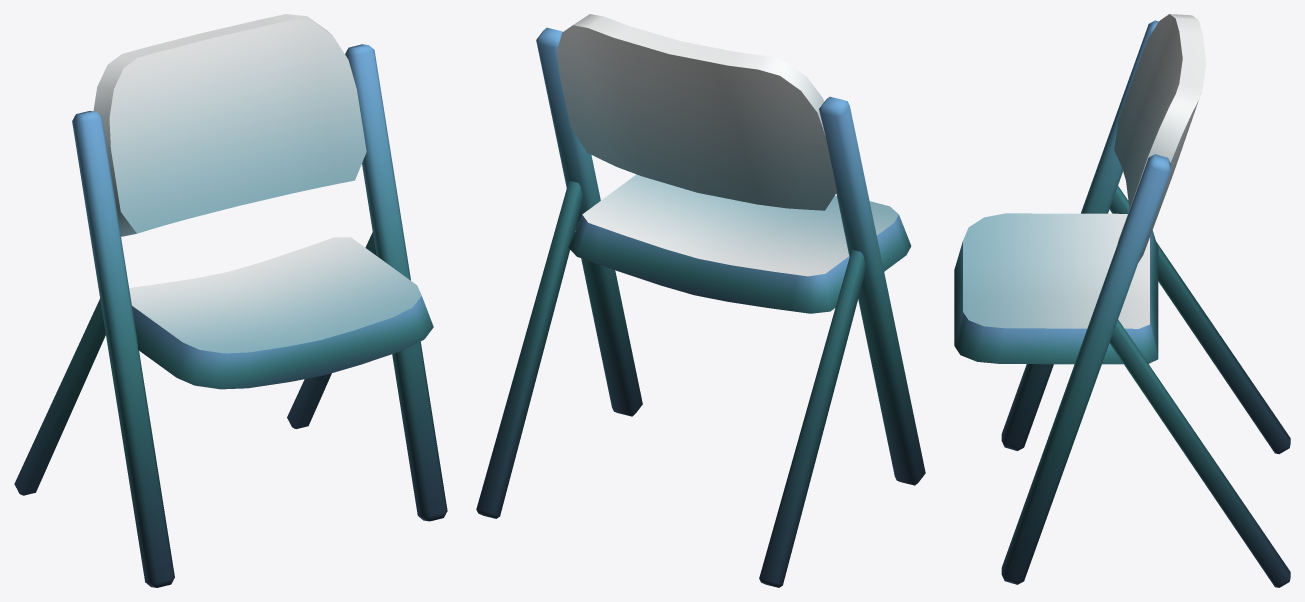
File: SM_Chair.fbx
3 renders of one model, left to right at view 1: azimuth 30°, elevation 25°; view 2: azimuth 150°, elevation 25°; view 3: azimuth 270°, elevation 25°, orthographic. The views are drawn at different scales.
Parts seen in each view (by area): view 1: SM_Chair; view 2: SM_Chair; view 3: SM_Chair.
Part boxes in pixels (x1=…): SM_Chair: x1=14, y1=14, x2=447, y2=587; SM_Chair: x1=476, y1=14, x2=925, y2=587; SM_Chair: x1=954, y1=14, x2=1290, y2=587.
Bounding box in the file's own units: 127 × 189 × 125.
